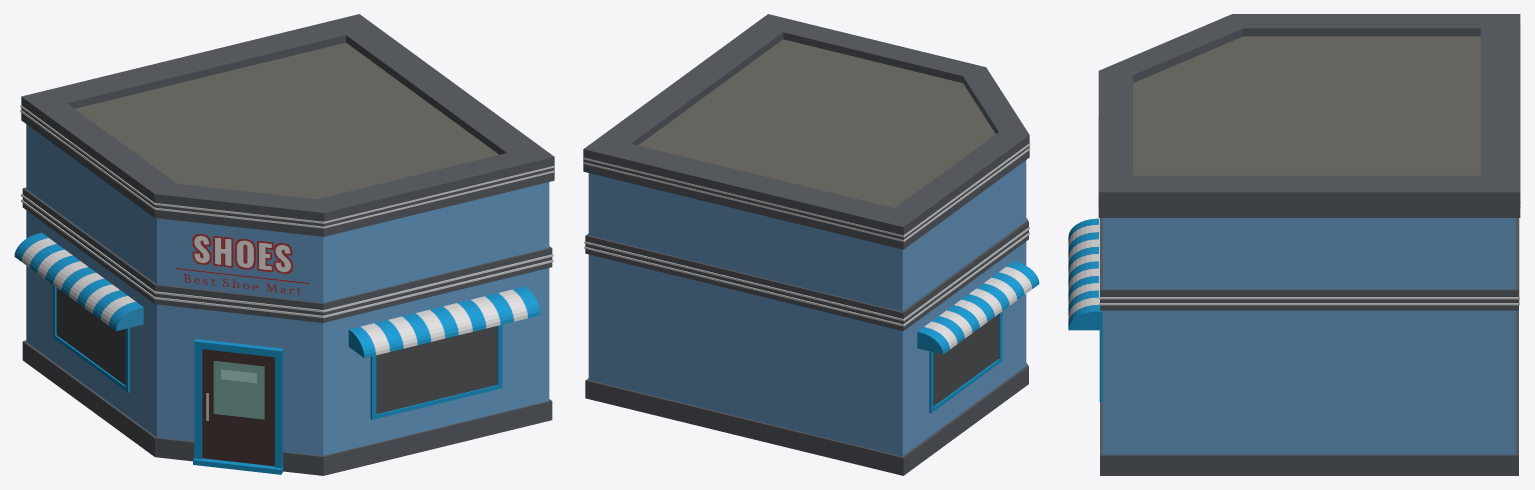
File: building-shoes-shop.glb
3 views of the same model, side by side, from view 1: azimuth 30°, elevation 25°; view 2: azimuth 150°, elevation 25°; view 3: azimuth 270°, elevation 25° (orthographic). The views are drawn at different scales.
Parts seen in each view (by area): view 1: model; view 2: model; view 3: model.
Part boxes in pixels (box(x1,y1,x2,y2)): model: box(14, 14, 554, 475); model: box(583, 14, 1039, 475); model: box(1068, 14, 1520, 475).
Bounding box in the file's own units: 12.04 × 8.36 × 12.04.
1 material, 1 textured.
